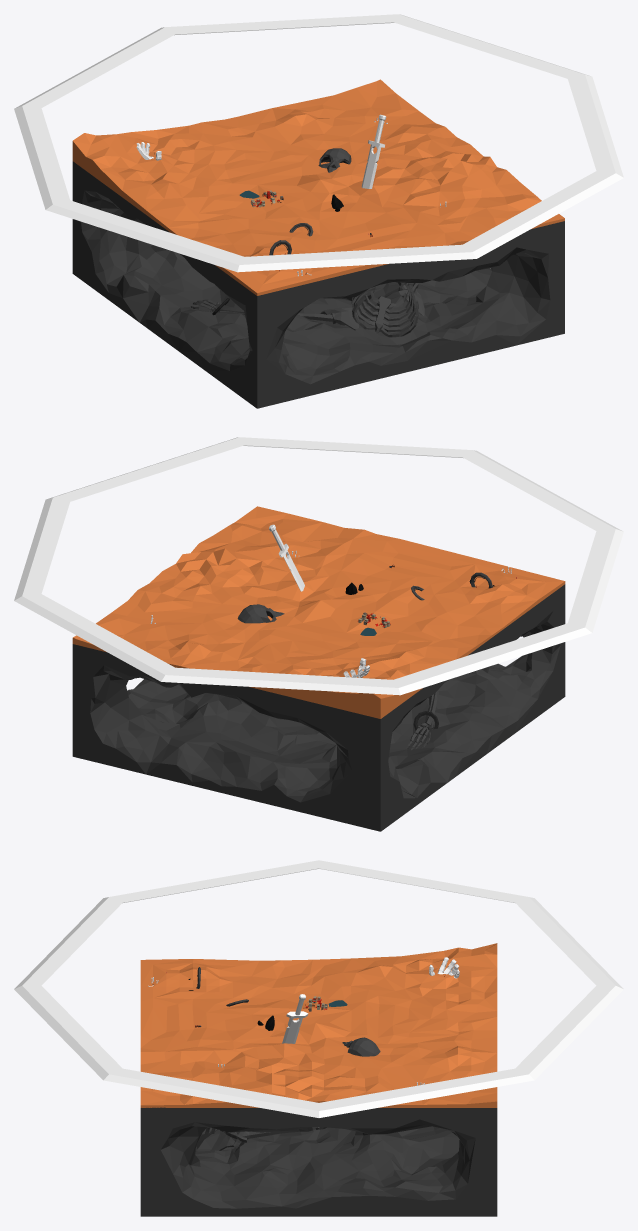
File: desert.obj
3 views of the same model, one above another, from view 1: azimuth 30°, elevation 25°; view 2: azimuth 150°, elevation 25°; view 3: azimuth 270°, elevation 25° (orthographic). The views are drawn at different scales.
Parts seen in each view (by area): view 1: Grid, Grid.002, Grid.001, torso_Plane, Cylinder.005_Cylinder.001, Cube.030_Cube; view 2: Grid.002, Grid, Grid.001, skull.002_SubTool-0-3517926.004, Cylinder.005_Cylinder.001; view 3: Grid, Grid.002, Grid.001, Cube.030_Cube, skull.002_SubTool-0-3517926.004.
Boxes of the visible parts, x1,y1,x2,y2 form: Grid: (72, 79, 564, 295); Grid.002: (72, 161, 564, 408); Grid.001: (14, 14, 623, 272); torso_Plane: (351, 283, 418, 337); Cylinder.005_Cylinder.001: (190, 282, 411, 325); Cube.030_Cube: (361, 114, 386, 188); Grid.002: (72, 584, 565, 831); Grid: (72, 506, 565, 718); Grid.001: (14, 437, 623, 695); skull.002_SubTool-0-3517926.004: (237, 604, 284, 623); Cylinder.005_Cylinder.001: (406, 690, 438, 750); Grid: (140, 943, 497, 1107); Grid.002: (140, 1107, 497, 1216); Grid.001: (14, 860, 623, 1117); Cube.030_Cube: (282, 994, 308, 1043); skull.002_SubTool-0-3517926.004: (342, 1037, 380, 1056).
Size of the model in its own units: 955 by 303 by 955.
